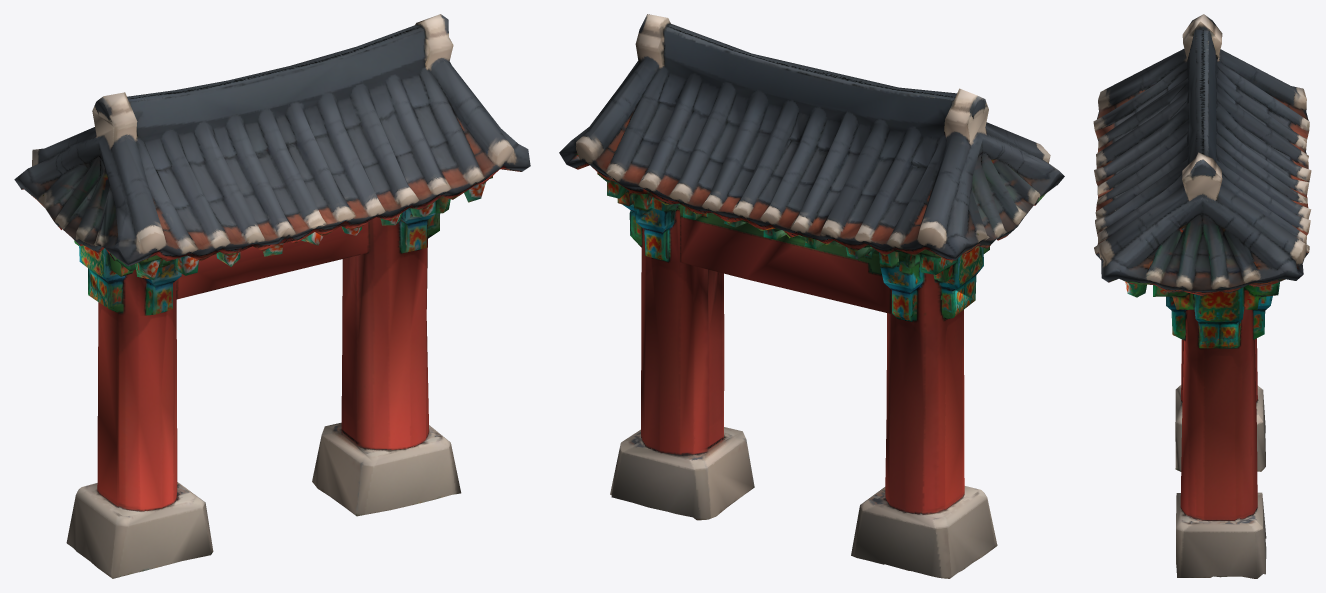
Rendered from palace_gate.glb.
3 views of the same model, side by side, from view 1: azimuth 30°, elevation 25°; view 2: azimuth 150°, elevation 25°; view 3: azimuth 270°, elevation 25° (orthographic). The views are drawn at different scales.
Visible parts, largest first — view 1: low; view 2: low; view 3: low.
Boxes of the visible parts, left/top/right/bottom form: low: left=14, top=14, right=530, bottom=578; low: left=559, top=14, right=1064, bottom=578; low: left=1093, top=14, right=1311, bottom=578.
Bounding box in the file's own units: 0.918 × 1 × 0.4739.
1 material, 1 textured.
